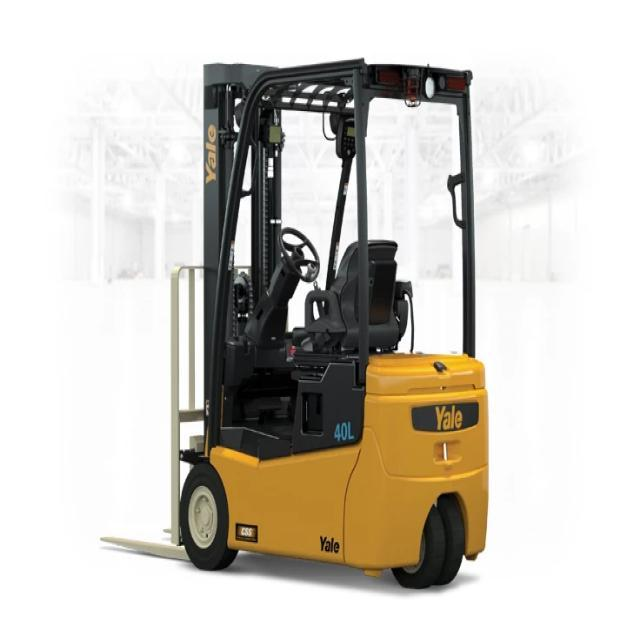forklift: (144, 53, 506, 599)
